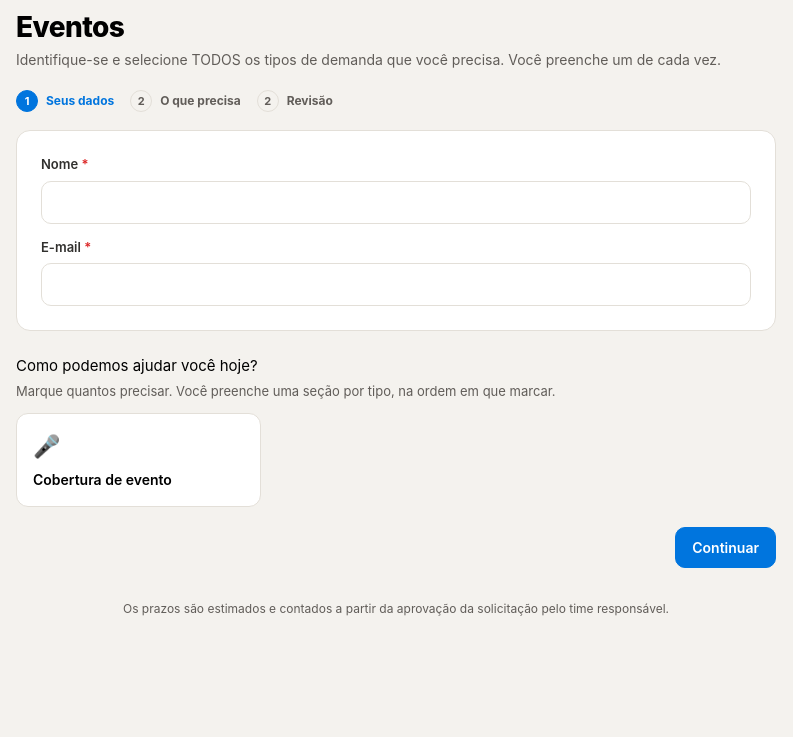
seção repetível › remover tira a repetição e as respostas dela
Type "Maria do Polo" into the field labelled "Nome *".
click(396, 202); type("Maria do Polo")  # box [41, 181, 751, 224]
Type "maria@polo.ex" into the field labelled "E-mail *".
click(396, 285); type("maria@polo.ex")  # box [41, 263, 751, 306]
Click the text "Cobertura de evento".
click(102, 480)  # box [33, 469, 172, 490]
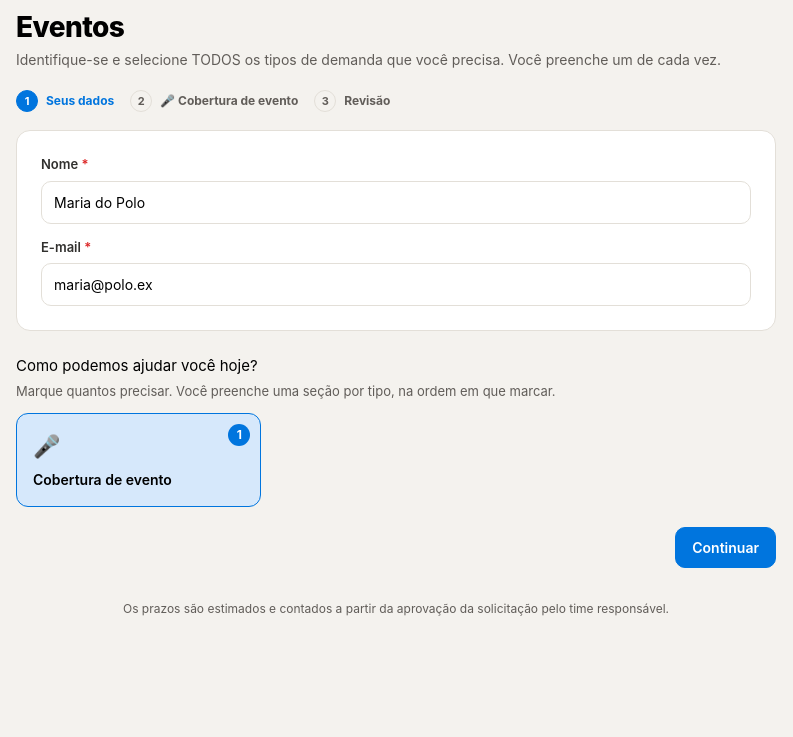
Click the button "Continuar".
click(726, 548)  # box [675, 527, 776, 568]
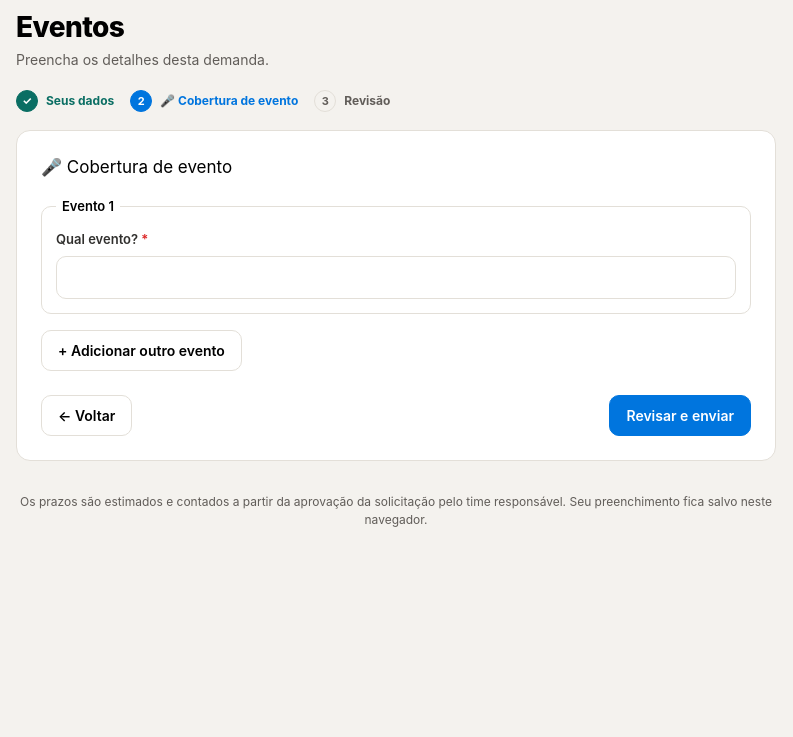
Click the button "+ Adicionar outro evento".
click(141, 350)  # box [41, 330, 242, 371]
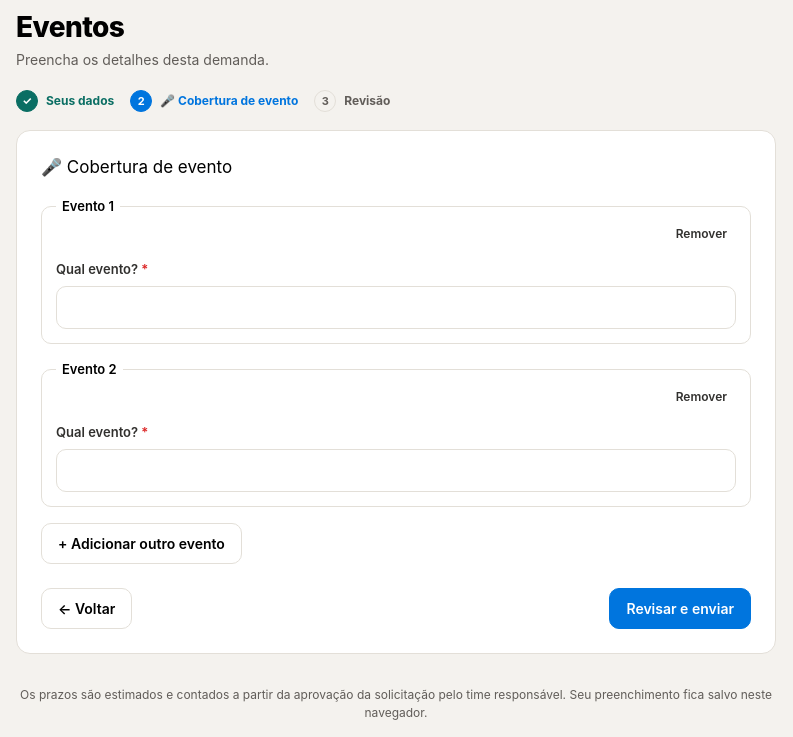
Type "Feira" into the 1st field labelled "Qual evento? *".
click(396, 307); type("Feira")  # box [56, 286, 736, 329]
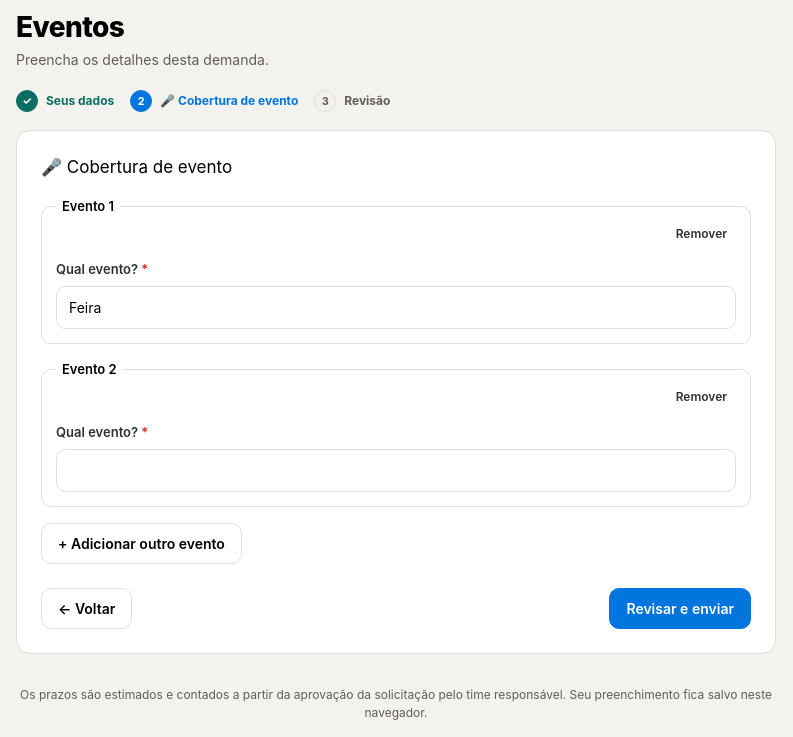
Type "Aula" into the 2nd field labelled "Qual evento? *".
click(396, 470); type("Aula")  # box [56, 449, 736, 492]
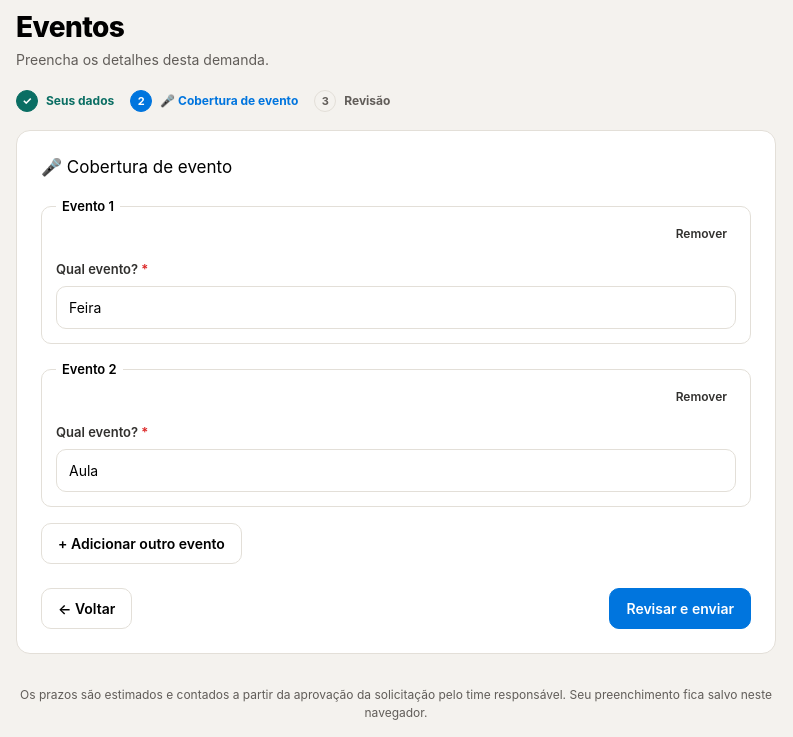
Click the button with aria-label "Remover evento 1".
click(701, 234)  # box [667, 222, 736, 246]
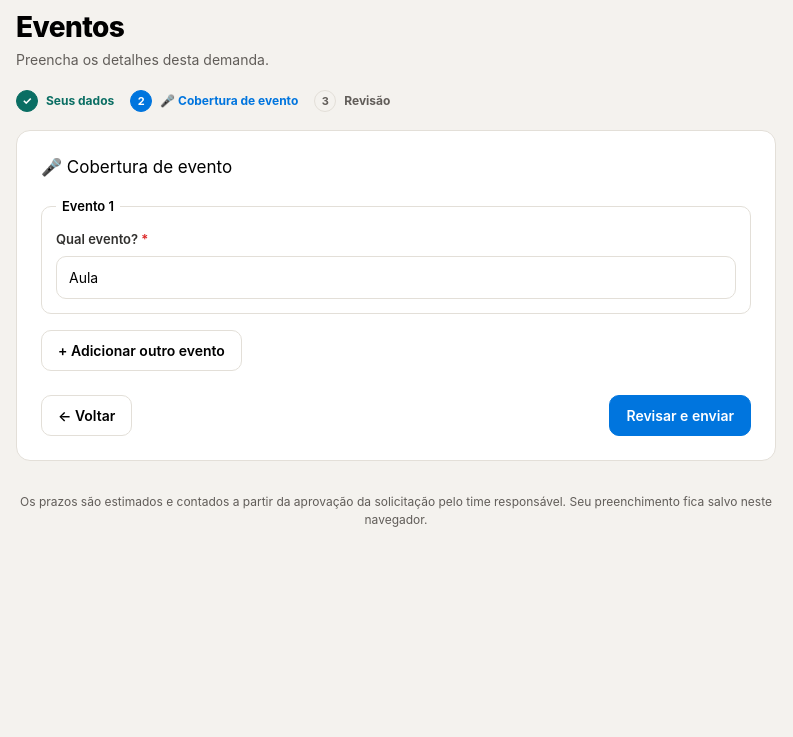
Check: the button "Remover" is gone
